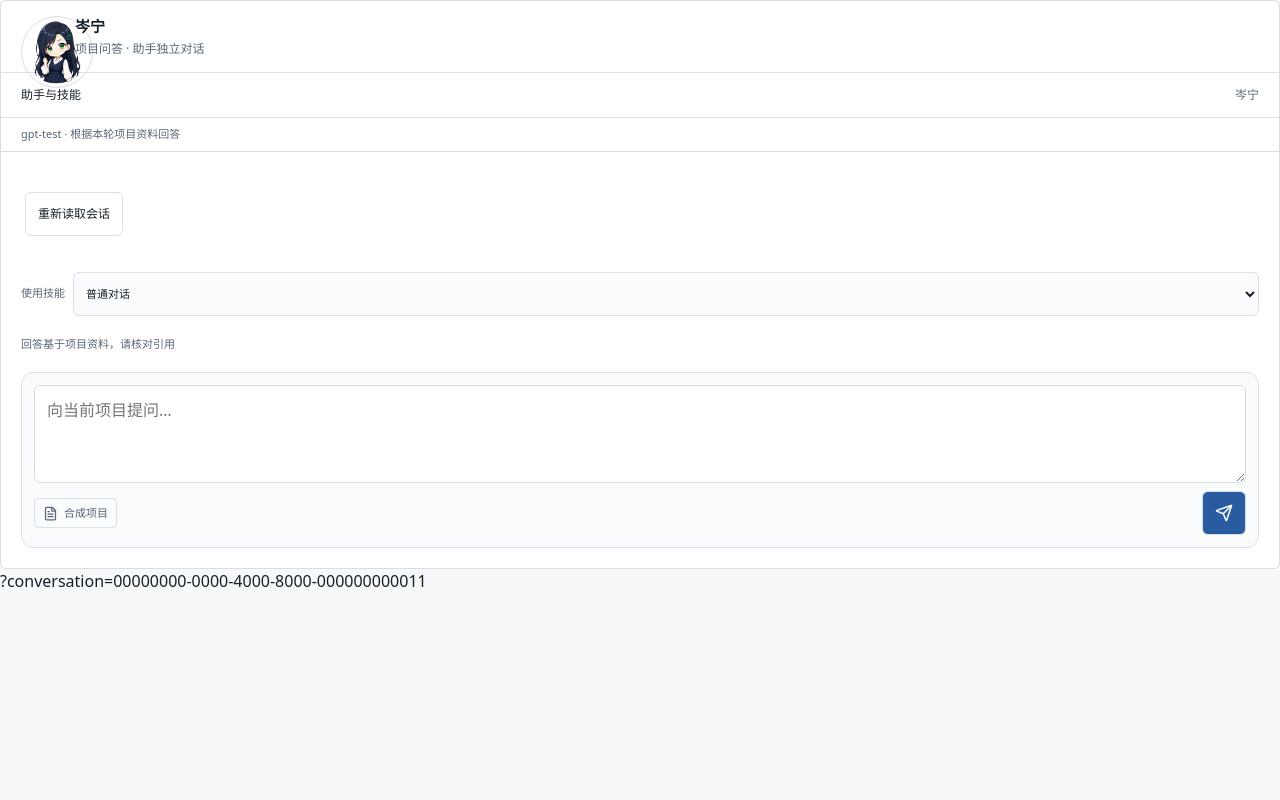
Test: successful recovery clears only the unchanged submitted draft
Expected: the text "gpt-test" is shown, [21,126,62,141]
Type "最初发送的问题" into the text box named "向项目知识提问".
click(640, 434); type("最初发送的问题")  # box [34,385,1246,483]
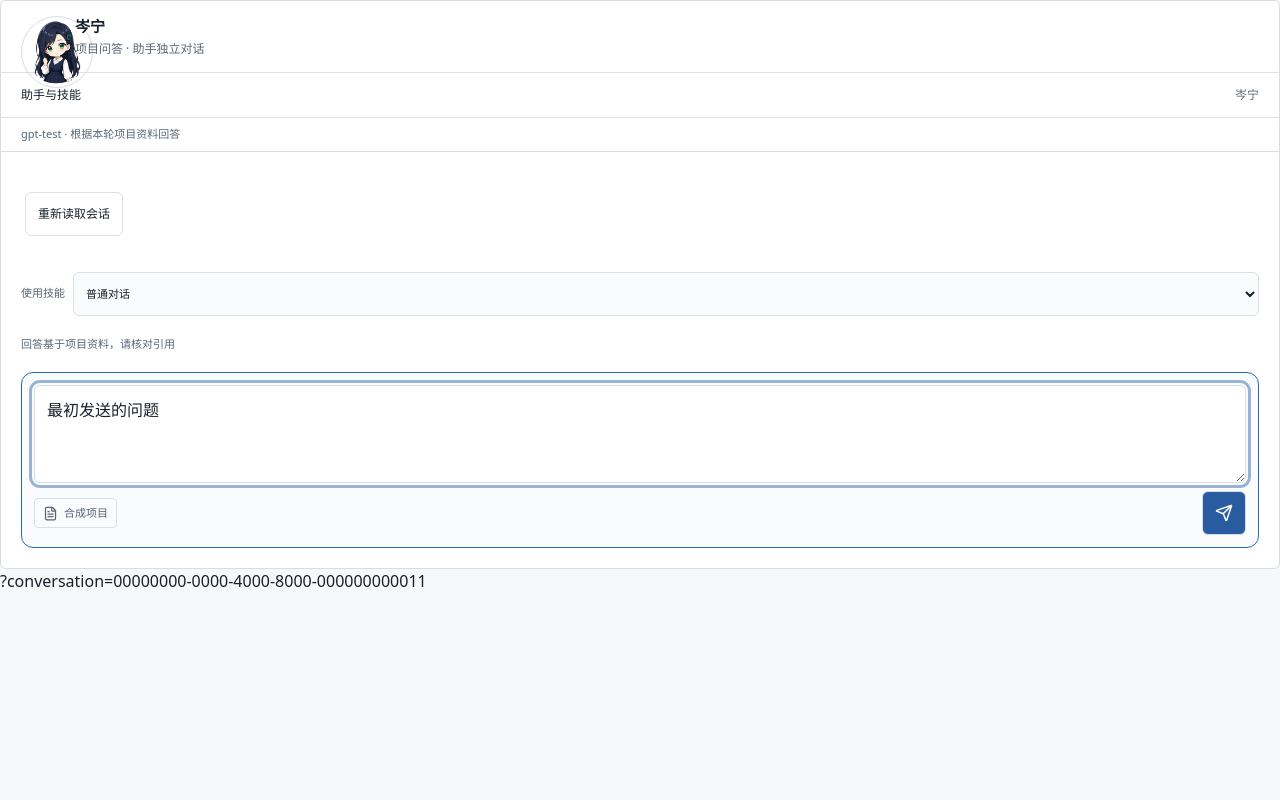
Click the button named "生成回答".
click(1224, 513)  # box [1202,491,1246,535]
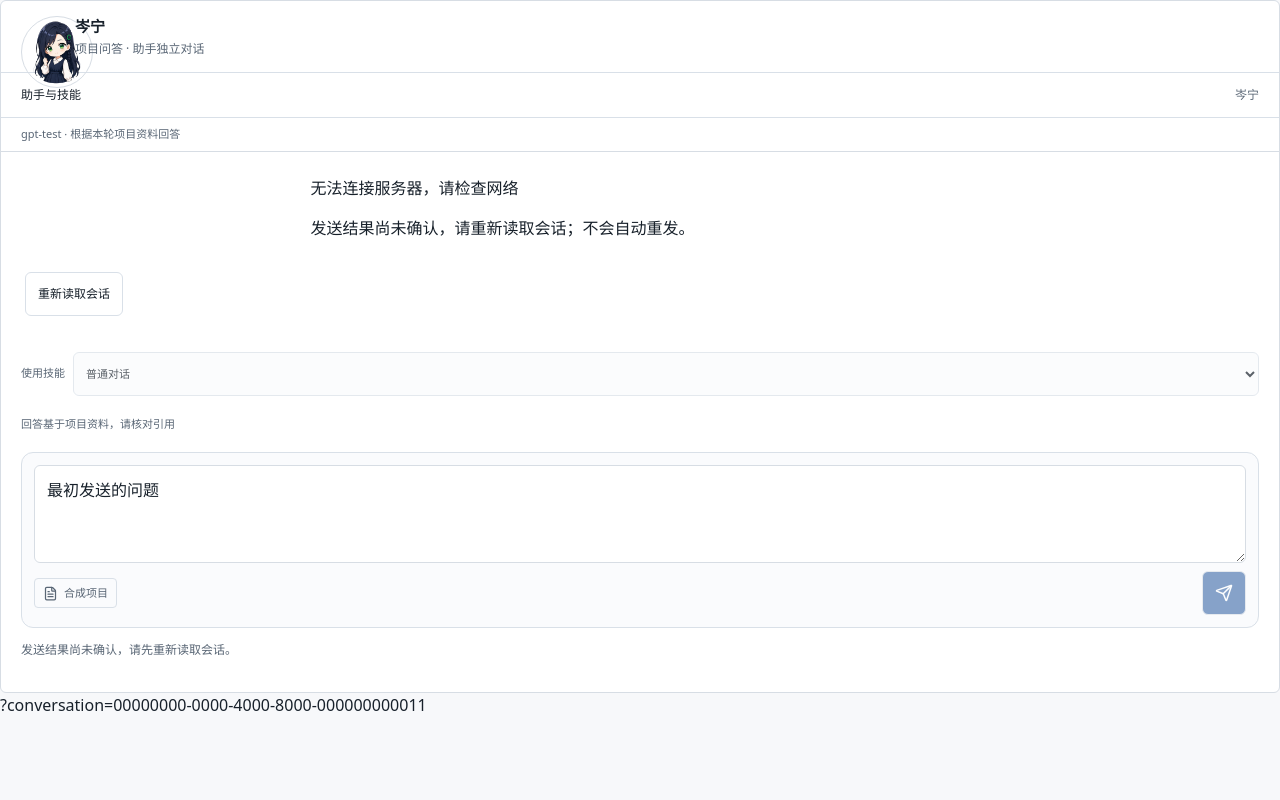
Result: the text "发送结果尚未确认，请重新读取会话；不会自动重发。" is shown at [310,216,694,238]
Replace the text in the text box named "向项目知识提问" with "后来修改的草稿" at (640, 514), box [34,465,1246,563]
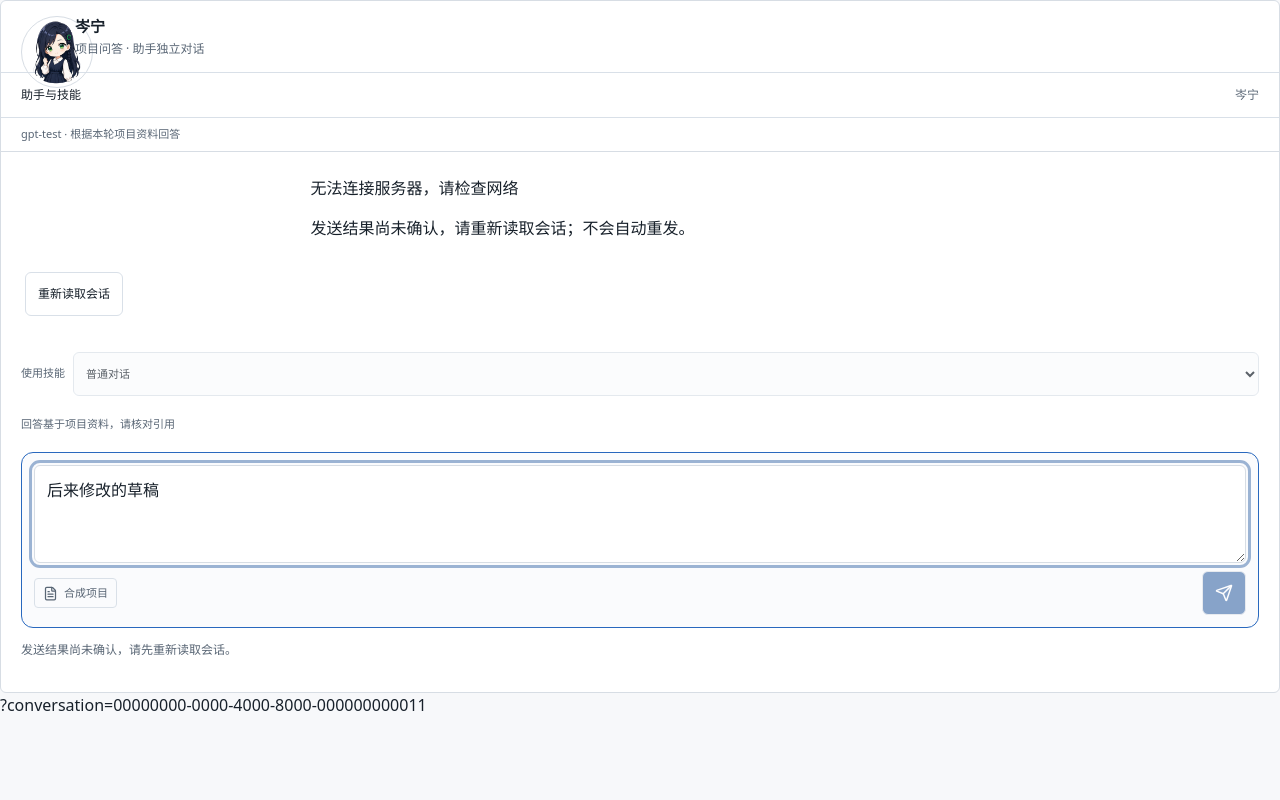
Click the button "重新读取会话".
click(74, 294)  # box [25,272,123,316]
(page scrolled)
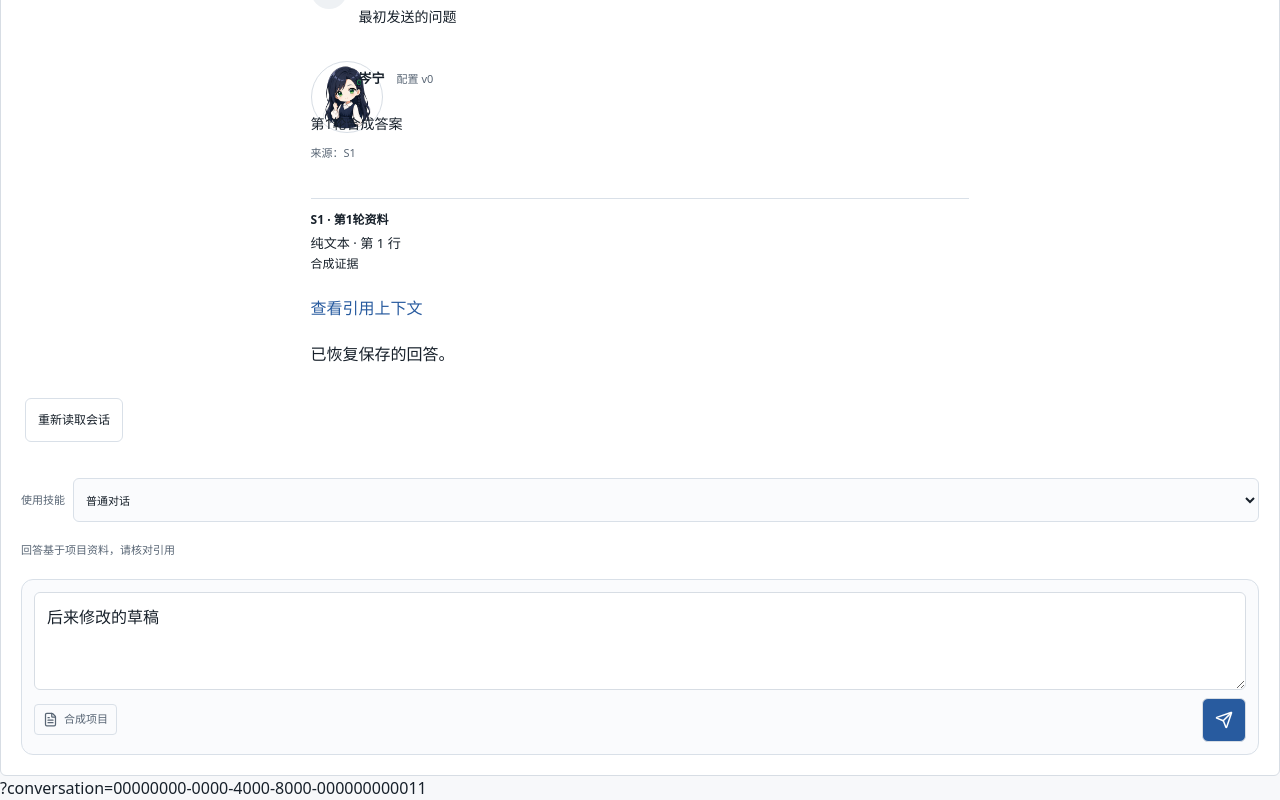
Result: the text "第1轮合成答案" is shown at [310,114,402,133]
Result: the button named "生成回答" is enabled at [1202,698,1246,742]
